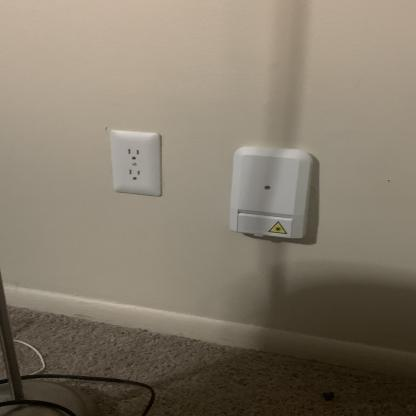OUTLET: (110, 129, 161, 195)
